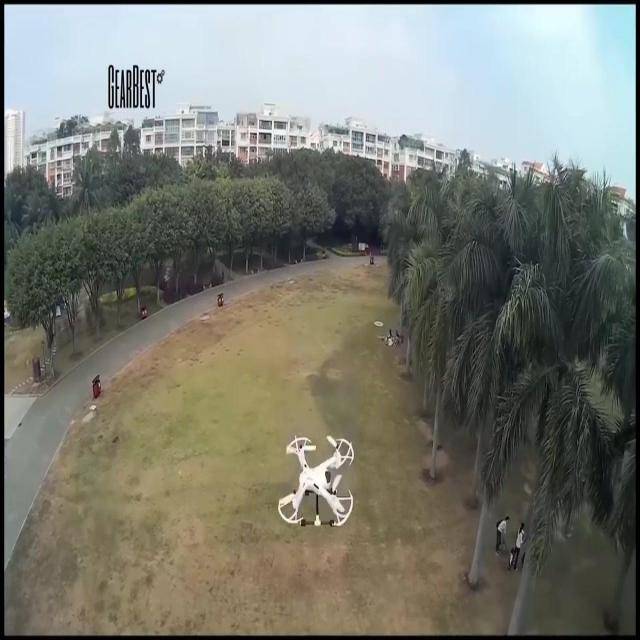drone: (277, 431, 355, 529)
